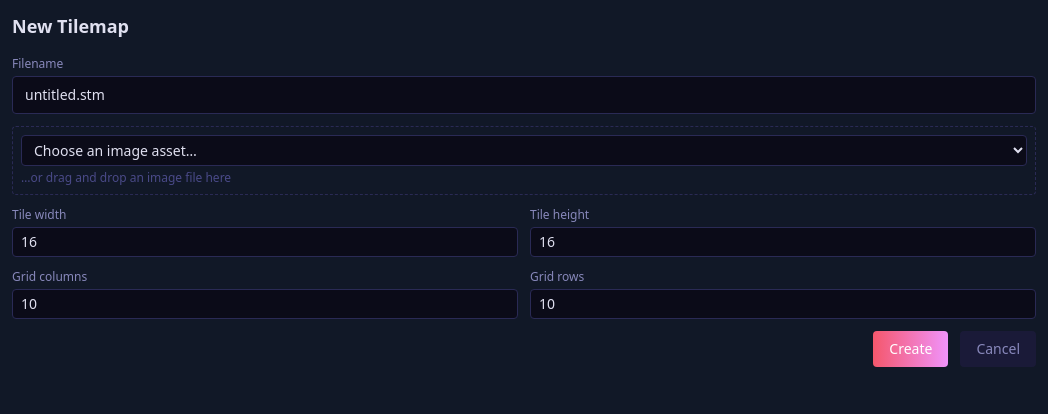
Scenario: NewTilemapDialog › shows an error when no tileset image is chosen
This screenshot has width=1048, height=414.
Click the button "Create" at (911, 349), box [873,331,948,367]
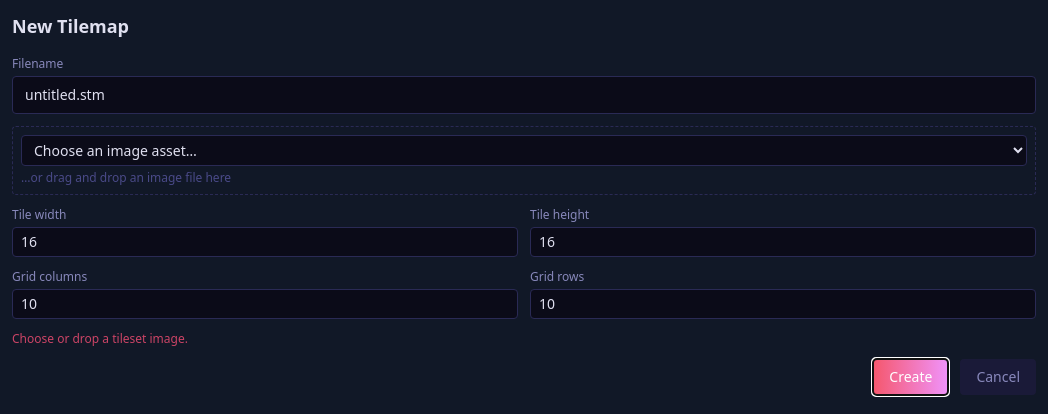
Now the text "Choose or drop a tileset image." is shown, box [12,330,188,347]
